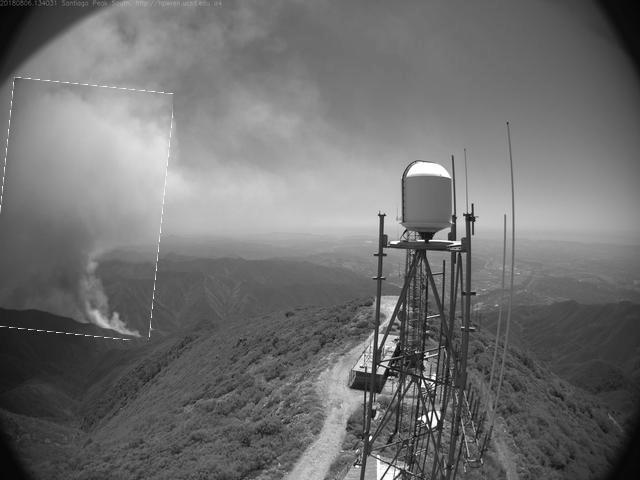smoke: (1, 82, 169, 339)
